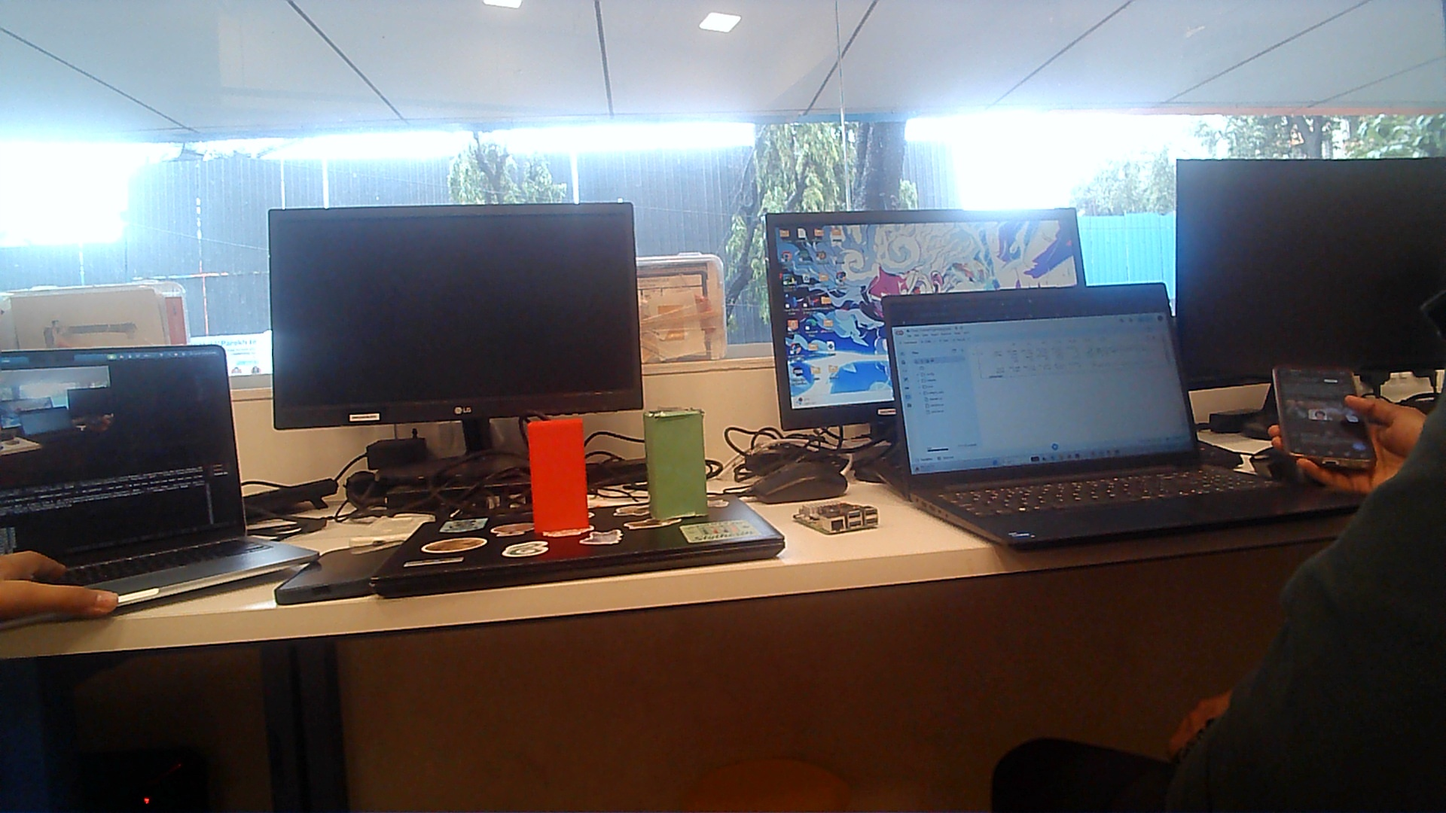red: (523, 415, 595, 535)
